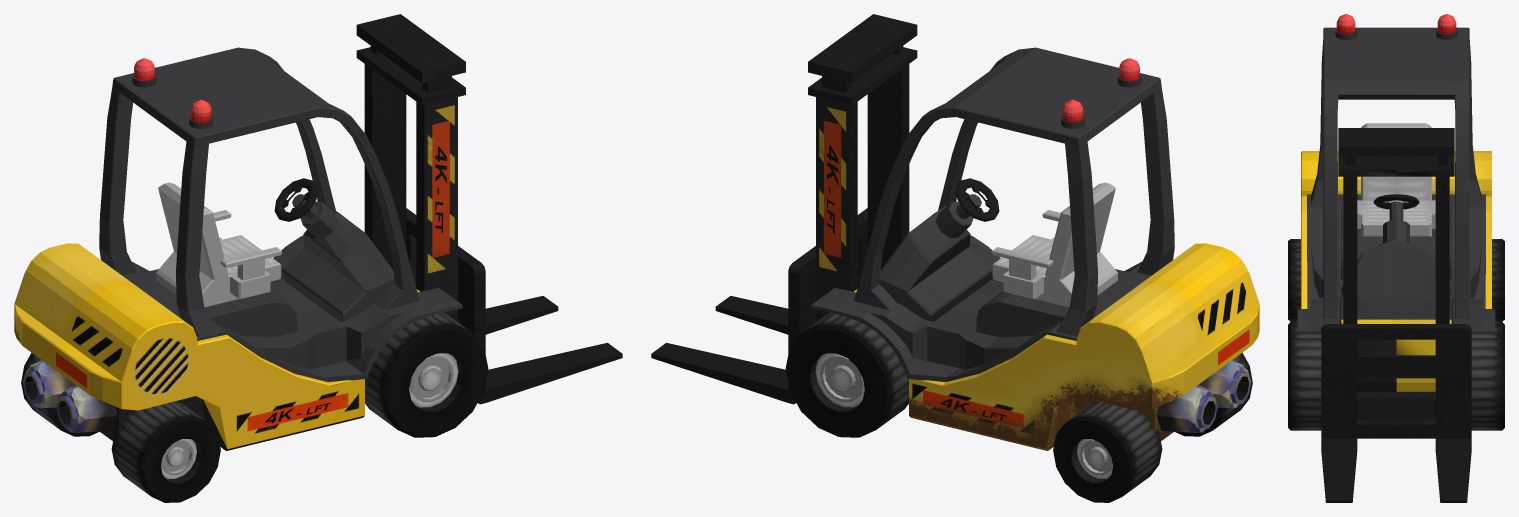
Rendered from FORKLIFT NEW.fbx.
The picture shows the model from 3 angles, left to right: view 1: azimuth 30°, elevation 25°; view 2: azimuth 150°, elevation 25°; view 3: azimuth 270°, elevation 25°; orthographic projection. The views are drawn at different scales.
Visible parts, largest first — view 1: Cage.001, Body.001, Cabin.001, LiftAxis.001, FrontWheels.003, FrontWheels.001, LiftAxis.002, Console, Lift.001, Body.002, Seat, Boosters (+2 smaller); view 2: Cage.001, Body.002, Cabin.001, LiftAxis.002, FrontWheels.003, FrontWheels.001, LiftAxis.001, Console, Lift.001, Body.001, Seat, Boosters (+2 smaller); view 3: Cage.001, Lift.001, Cabin.001, FrontWheels.003, Console, LiftAxis.001, LiftAxis.002, Seat, Body.001, Body.002, FrontWheels.001, Cylinder.004 (+1 smaller).
Boxes of the visible parts, x1,y1,x2,y2 form: Cage.001: (99, 47, 419, 336); Body.001: (56, 282, 420, 450); Cabin.001: (123, 236, 462, 381); LiftAxis.001: (389, 38, 465, 321); FrontWheels.003: (365, 312, 488, 437); FrontWheels.001: (21, 352, 220, 502); LiftAxis.002: (356, 14, 432, 269); Console: (281, 194, 394, 321); Lift.001: (406, 208, 622, 404); Body.002: (14, 243, 131, 369); Seat: (156, 182, 281, 307); Boosters: (22, 360, 117, 432); Cage.001: (854, 47, 1174, 336); Body.002: (853, 282, 1217, 450); Cabin.001: (811, 236, 1150, 381); LiftAxis.002: (808, 38, 884, 321); FrontWheels.003: (785, 312, 908, 437); FrontWheels.001: (1053, 352, 1252, 502); LiftAxis.001: (841, 14, 917, 269); Console: (879, 194, 992, 321); Lift.001: (651, 208, 867, 404); Body.001: (1142, 243, 1259, 369); Seat: (992, 182, 1117, 307); Boosters: (1156, 360, 1251, 432); Cage.001: (1311, 27, 1481, 318); Lift.001: (1321, 324, 1471, 502); Cabin.001: (1297, 194, 1495, 334); FrontWheels.003: (1288, 321, 1504, 430); Console: (1341, 201, 1451, 319); LiftAxis.001: (1338, 128, 1396, 378); LiftAxis.002: (1396, 128, 1454, 378); Seat: (1357, 123, 1435, 236); Body.001: (1301, 151, 1396, 391); Body.002: (1396, 151, 1491, 391); FrontWheels.001: (1288, 239, 1504, 321); Cylinder.004: (1335, 14, 1457, 39).
Bounding box in the file's own units: 271 × 177 × 107.
